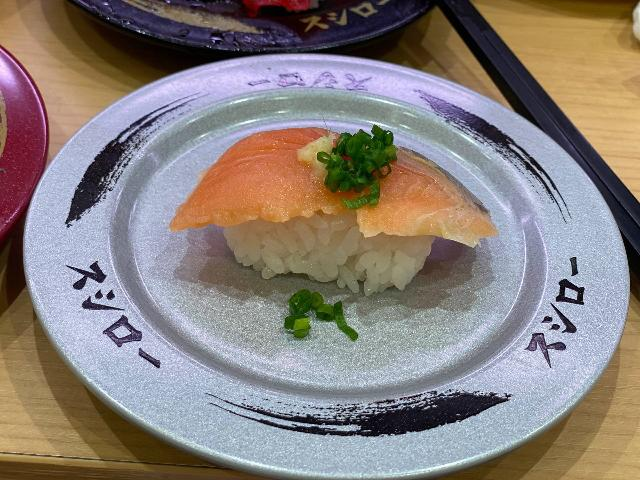janback: (61, 0, 457, 54)
janwhite: (23, 281, 460, 480), (453, 85, 640, 480), (15, 73, 183, 278), (182, 70, 460, 133)
